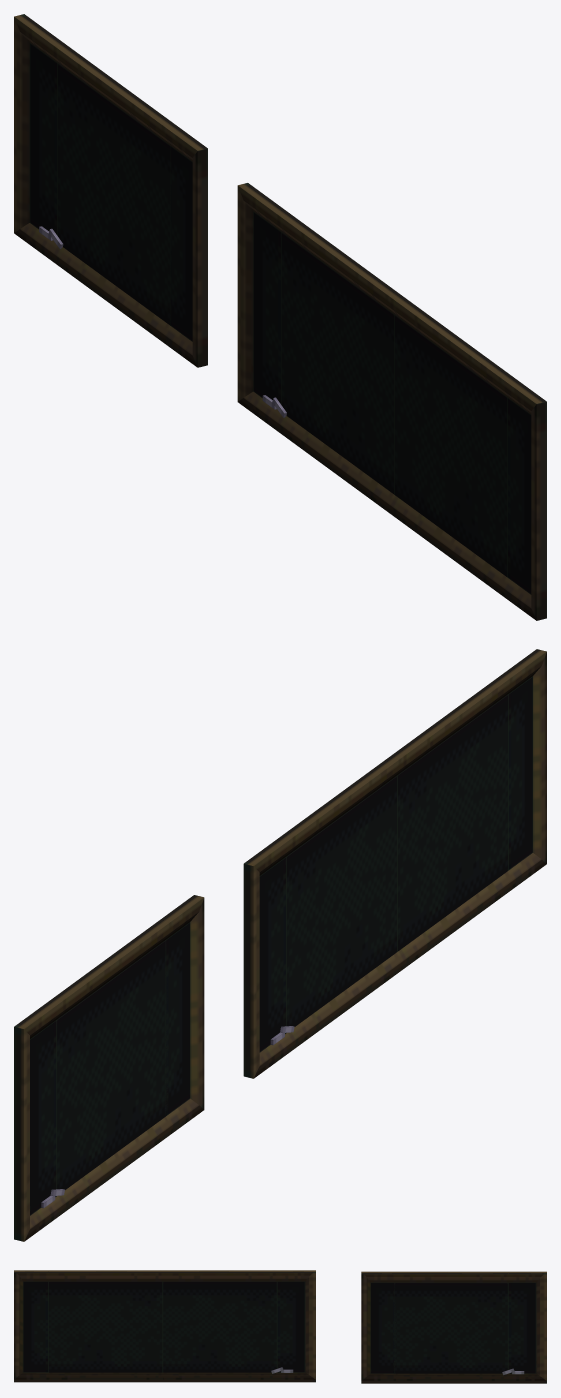
The model's file is EnvObjMD_Blackboard_A_L.FBX.
3 renders of one model, top to bottom at view 1: azimuth 30°, elevation 25°; view 2: azimuth 150°, elevation 25°; view 3: azimuth 270°, elevation 25°, orthographic. The views are drawn at different scales.
Visible parts, largest first — view 1: EnvObjMD_Blackboard_A_L, EnvObjMD_Blackboard_A_M; view 2: EnvObjMD_Blackboard_A_L, EnvObjMD_Blackboard_A_M; view 3: EnvObjMD_Blackboard_A_L, EnvObjMD_Blackboard_A_M.
Part boxes in pixels (x1,y1,x2,y2): EnvObjMD_Blackboard_A_L: (237,183,546,620); EnvObjMD_Blackboard_A_M: (14,14,207,367); EnvObjMD_Blackboard_A_L: (243,649,546,1078); EnvObjMD_Blackboard_A_M: (14,895,204,1241); EnvObjMD_Blackboard_A_L: (14,1270,315,1382); EnvObjMD_Blackboard_A_M: (361,1271,546,1383).
Size of the model in its own units: 15 by 200 by 883.
1 material, 1 textured.
